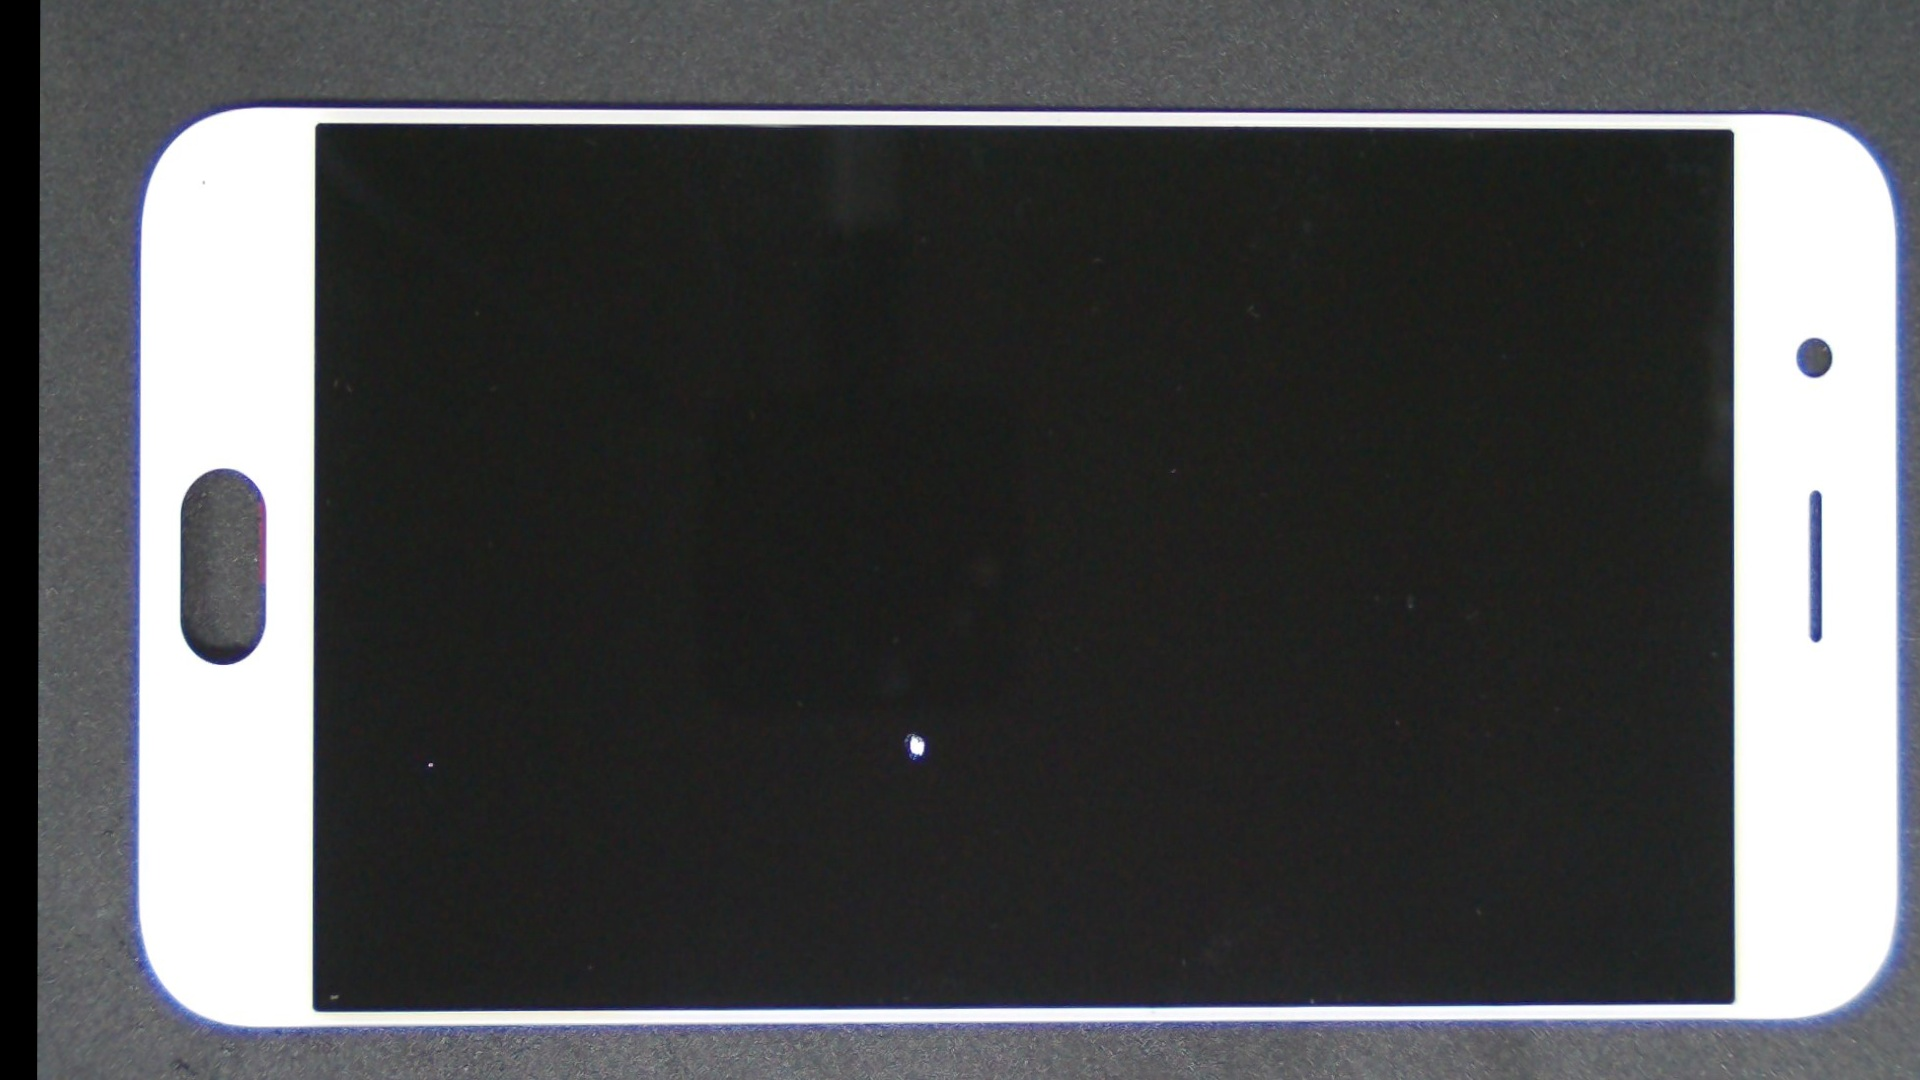oil: (473, 349, 1341, 1080)
